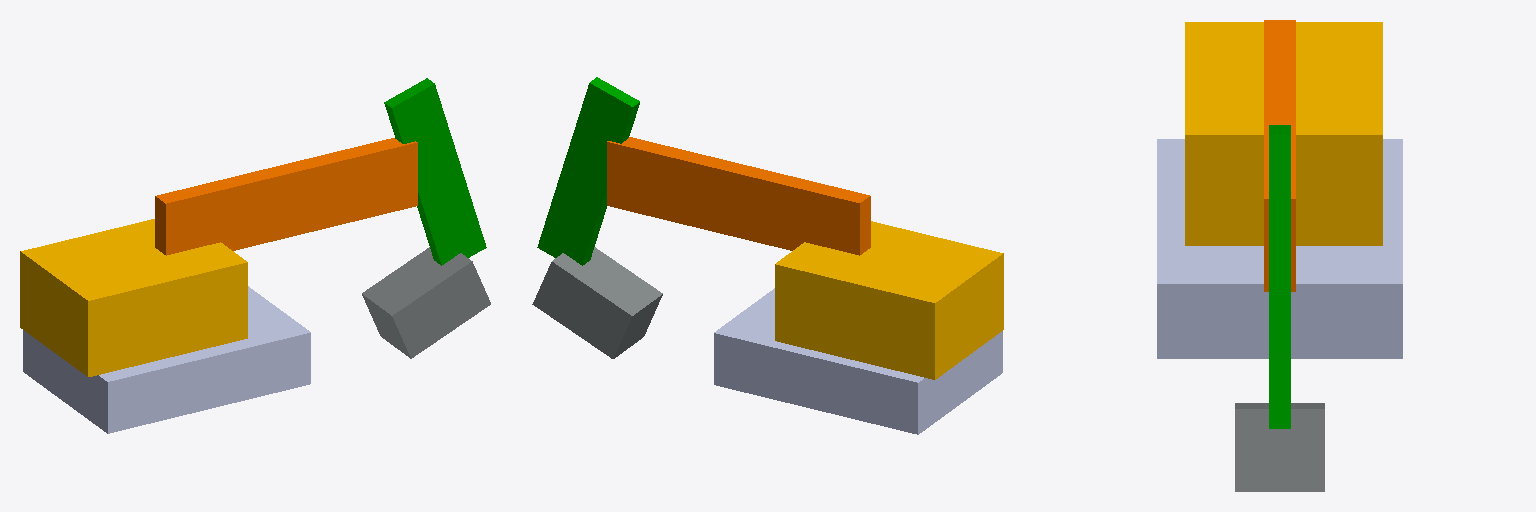
The robot description file, URDF, robot "excavator_dh":
<?xml version="1.0" encoding="utf-8"?>
<!-- Generated by scripts/generate_dh_urdf.py.
     Modified-DH frames; do not edit by hand. -->
<robot name="excavator_dh">
  <material name="excavator_yellow">
    <color rgba="1.0 0.75 0.0 1.0" />
  </material>
  <material name="excavator_orange">
    <color rgba="1.0 0.50 0.0 1.0" />
  </material>
  <material name="excavator_green">
    <color rgba="0.0 0.67 0.0 1.0" />
  </material>
  <material name="excavator_grey">
    <color rgba="0.53 0.55 0.55 1.0" />
  </material>
  <material name="excavator_blue">
    <color rgba="0.79 0.82 0.93 1.0" />
  </material>
  <material name="cylinder_body">
    <color rgba="0.35 0.35 0.38 1.0" />
  </material>
  <material name="cylinder_rod">
    <color rgba="0.85 0.85 0.88 1.0" />
  </material>
  <link name="world" />
  <link name="base_link">
    <inertial>
      <origin rpy="0 0 0" xyz="0 0 0.19446" />
      <mass value="10000" />
      <inertia ixx="10833.3" ixy="0" ixz="0" iyy="10833.3" iyz="0" izz="20000" />
    </inertial>
    <visual>
      <origin rpy="0 0 0" xyz="-0.001 0 0.1617" />
      <geometry>
        <box size="4.5963 3.3000 1.1166" />
      </geometry>
      <material name="excavator_blue" />
    </visual>
    <collision>
      <origin rpy="0 0 0" xyz="-0.001 0 0.1617" />
      <geometry>
        <box size="4.5963 3.3000 1.1166" />
      </geometry>
    </collision>
  </link>
  <joint name="world_to_base_link" type="fixed">
    <origin rpy="0 0 0" xyz="0 0 0.397" />
    <parent link="world" />
    <child link="base_link" />
  </joint>
  <link name="swing_link">
    <inertial>
      <origin rpy="0 0 0" xyz="0 0 -1.0372" />
      <mass value="3000" />
      <inertia ixx="2250" ixy="0" ixz="0" iyy="2250" iyz="0" izz="3375" />
    </inertial>
    <visual>
      <origin rpy="0 0 0" xyz="-0.717 0.0525 -0.2138" />
      <geometry>
        <box size="3.6042 2.6550 1.6468" />
      </geometry>
      <material name="excavator_yellow" />
    </visual>
    <collision>
      <origin rpy="0 0 0" xyz="-0.717 0.0525 -0.2138" />
      <geometry>
        <box size="3.6042 2.6550 1.6468" />
      </geometry>
    </collision>
  </link>
  <joint name="swing_joint" type="revolute">
    <origin rpy="0 0 0" xyz="0 0 1.7572" />
    <parent link="base_link" />
    <child link="swing_link" />
    <axis xyz="0 0 -1" />
    <limit effort="5000" lower="-6.2832" upper="6.2832" velocity="0.5" />
    <dynamics damping="1.0" friction="40.0" />
  </joint>
  <link name="boom_link">
    <inertial>
      <origin rpy="1.570796327 0 0.305064185" xyz="2.570519104 -0.535142035 0" />
      <mass value="1440.8" />
      <inertia ixx="538.324463259" ixy="-689.35774792" ixz="0" iyy="2510.425536741" iyz="0" izz="3009.3" />
    </inertial>
    <visual>
      <origin rpy="1.570796327 0 0.305064185" xyz="2.88196978 -0.183458405 0" />
      <geometry>
        <box size="5.6803 0.4200 1.3741" />
      </geometry>
      <material name="excavator_orange" />
    </visual>
    <collision>
      <origin rpy="1.570796327 0 0.305064185" xyz="2.88196978 -0.183458405 0" />
      <geometry>
        <box size="5.6803 0.4200 1.3741" />
      </geometry>
    </collision>
  </link>
  <joint name="boom_joint" type="revolute">
    <origin rpy="-1.570796327 -0.305064185 0" xyz="-0.009 0 0" />
    <parent link="swing_link" />
    <child link="boom_link" />
    <axis xyz="0 0 1" />
    <limit effort="5000" lower="-0.9" upper="0.35" velocity="0.3" />
    <dynamics damping="1.0" friction="80.0" />
  </joint>
  <link name="stick_link">
    <inertial>
      <origin rpy="1.570796327 0 0.051813704" xyz="0.933561371 -0.193249715 0" />
      <mass value="600.4" />
      <inertia ixx="28.04815644" ixy="-26.844450164" ixz="0" iyy="544.28784356" iyz="0" izz="564.47" />
    </inertial>
    <visual>
      <origin rpy="1.570796327 0 0.051813704" xyz="1.057261376 -0.296241445 0" />
      <geometry>
        <box size="3.9877 0.3000 1.0195" />
      </geometry>
      <material name="excavator_green" />
    </visual>
    <collision>
      <origin rpy="1.570796327 0 0.051813704" xyz="1.057261376 -0.296241445 0" />
      <geometry>
        <box size="3.9877 0.3000 1.0195" />
      </geometry>
    </collision>
  </link>
  <joint name="stick_joint" type="revolute">
    <origin rpy="0 0 1.52585048" xyz="5.679956804 0 0" />
    <parent link="boom_link" />
    <child link="stick_link" />
    <axis xyz="0 0 1" />
    <limit effort="5000" lower="-0.8" upper="1.0" velocity="0.4" />
    <dynamics damping="1.0" friction="80.0" />
  </joint>
  <link name="bucket_link">
    <inertial>
      <origin rpy="1.570796327 0 -0.033320996" xyz="0.7008141 -0.592676493 0" />
      <mass value="359.5" />
      <inertia ixx="94.709611544" ixy="2.478346294" ixz="0" iyy="168.977388456" iyz="0" izz="138.37" />
    </inertial>
    <visual>
      <origin rpy="1.570796327 0 -0.033320996" xyz="0.800861867 -0.524771874 0" />
      <geometry>
        <box size="1.9642 1.2000 1.1148" />
      </geometry>
      <material name="excavator_grey" />
    </visual>
    <collision>
      <origin rpy="1.570796327 0 -0.033320996" xyz="0.800861867 -0.524771874 0" />
      <geometry>
        <box size="1.9642 1.2000 1.1148" />
      </geometry>
    </collision>
  </link>
  <joint name="bucket_joint" type="revolute">
    <origin rpy="0 0 1.5568347" xyz="2.915012033 0 0" />
    <parent link="stick_link" />
    <child link="bucket_link" />
    <axis xyz="0 0 1" />
    <limit effort="5000" lower="-1.4" upper="1.2" velocity="0.5" />
    <dynamics damping="1.0" friction="80.0" />
  </joint>
  <link name="bucket_tip" />
  <joint name="bucket_tip_joint" type="fixed">
    <origin rpy="1.570796327 0 -0.033320996" xyz="1.800999722 0 0" />
    <parent link="bucket_link" />
    <child link="bucket_tip" />
  </joint>
  <gazebo reference="base_link">
    <mu1>0.9</mu1>
    <mu2>0.9</mu2>
  </gazebo>
  <ros2_control name="ExcavatorSystem" type="system">
    <hardware>
      <plugin>gazebo_ros2_control/GazeboSystem</plugin>
    </hardware>
    <joint name="swing_joint">
      <command_interface name="position" />
      <state_interface name="position">
        <param name="initial_value">0.0</param>
      </state_interface>
      <state_interface name="velocity" />
      <state_interface name="effort" />
    </joint>
    <joint name="boom_joint">
      <command_interface name="position" />
      <state_interface name="position">
        <param name="initial_value">-0.35</param>
      </state_interface>
      <state_interface name="velocity" />
      <state_interface name="effort" />
    </joint>
    <joint name="stick_joint">
      <command_interface name="position" />
      <state_interface name="position">
        <param name="initial_value">0.45</param>
      </state_interface>
      <state_interface name="velocity" />
      <state_interface name="effort" />
    </joint>
    <joint name="bucket_joint">
      <command_interface name="position" />
      <state_interface name="position">
        <param name="initial_value">-0.40</param>
      </state_interface>
      <state_interface name="velocity" />
      <state_interface name="effort" />
    </joint>
  </ros2_control>
</robot>

--- What the picture shows (computed from the rendered views, not written in the file) ---
Views: 3 orthographic renders of the robot side by side, from view 1: azimuth 30°, elevation 25°; view 2: azimuth 150°, elevation 25°; view 3: azimuth 270°, elevation 25°.
Model excavator_dh with 7 links and 6 joints (4 revolute, 2 fixed), rooted at world, posed all joints at 0.
Visible links, largest first — view 1: swing_link, boom_link, base_link, stick_link, bucket_link; view 2: swing_link, boom_link, base_link, stick_link, bucket_link; view 3: swing_link, base_link, bucket_link, stick_link, boom_link.
Link boxes in pixels (left/top/right/bottom): swing_link: left=20, top=219, right=247, bottom=376; boom_link: left=155, top=138, right=417, bottom=255; base_link: left=23, top=286, right=310, bottom=433; stick_link: left=384, top=78, right=486, bottom=265; bucket_link: left=362, top=247, right=490, bottom=358; swing_link: left=775, top=221, right=1003, bottom=379; boom_link: left=607, top=137, right=870, bottom=255; base_link: left=714, top=288, right=1002, bottom=434; stick_link: left=537, top=77, right=639, bottom=265; bucket_link: left=532, top=247, right=662, bottom=358; swing_link: left=1185, top=22, right=1382, bottom=245; base_link: left=1157, top=139, right=1402, bottom=358; bucket_link: left=1235, top=403, right=1324, bottom=491; stick_link: left=1269, top=125, right=1290, bottom=428; boom_link: left=1264, top=20, right=1295, bottom=291.
Bounding box of the posed robot: 9.64 × 3.3 × 5.57 m (x, y, z).
Geometry: primitives only (box / cylinder / sphere), no mesh files.
